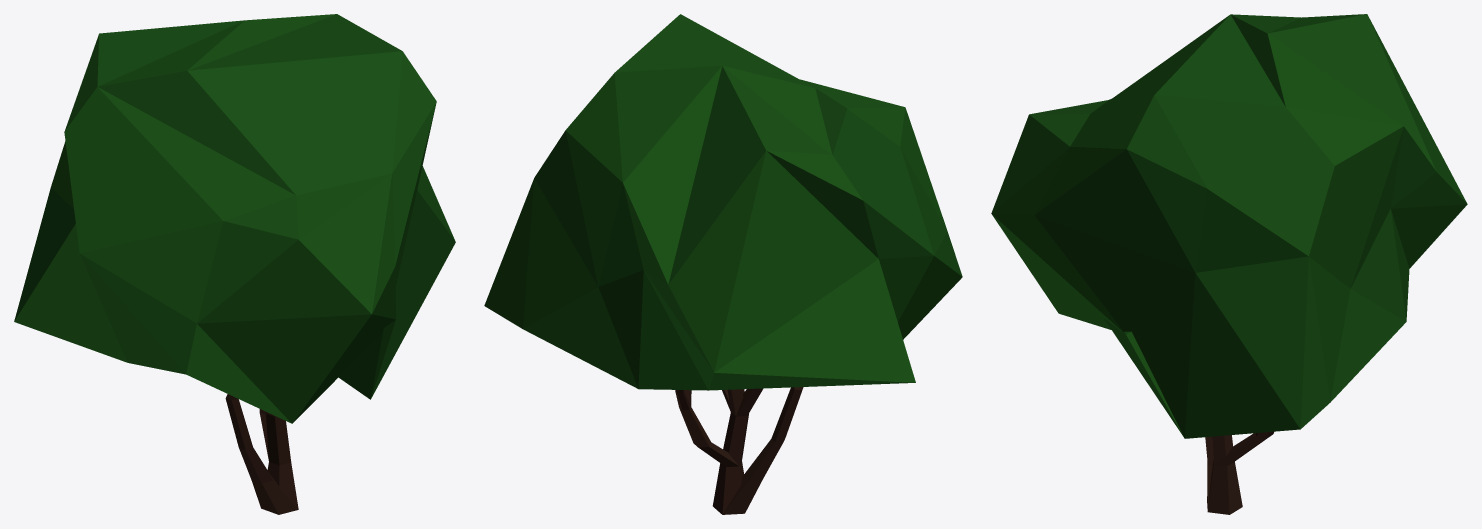
Rendered from Bush1.fbx.
3 views of the same model, side by side, from view 1: azimuth 30°, elevation 25°; view 2: azimuth 150°, elevation 25°; view 3: azimuth 270°, elevation 25° (orthographic). The views are drawn at different scales.
Parts seen in each view (by area): view 1: Bush; view 2: Bush; view 3: Bush.
Boxes of the visible parts, x1,y1,x2,y2 form: Bush: (14, 14, 455, 514); Bush: (484, 14, 962, 514); Bush: (991, 14, 1467, 514).
Bounding box in the file's own units: 162 × 166 × 153.
